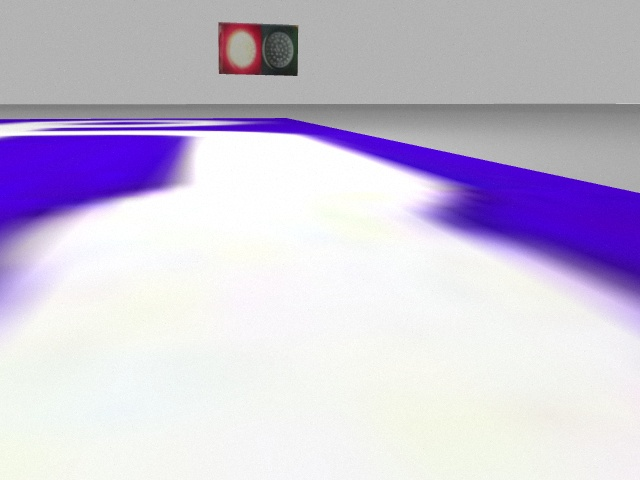red: (218, 23, 262, 74)
